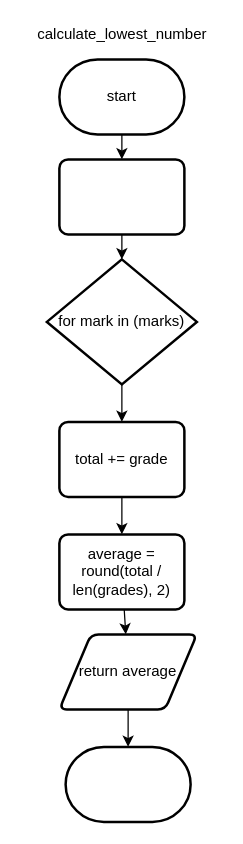
This 243x844 diagram has some shape labels left out. The centre of each missing label's shape, as x and y in pixels:
"get user input (grades)" belongs at pixel 121 196.
"stop" belongs at pixel 127 783.
